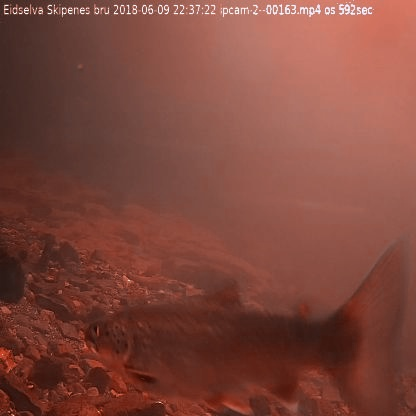salmon: (79, 229, 410, 415)
